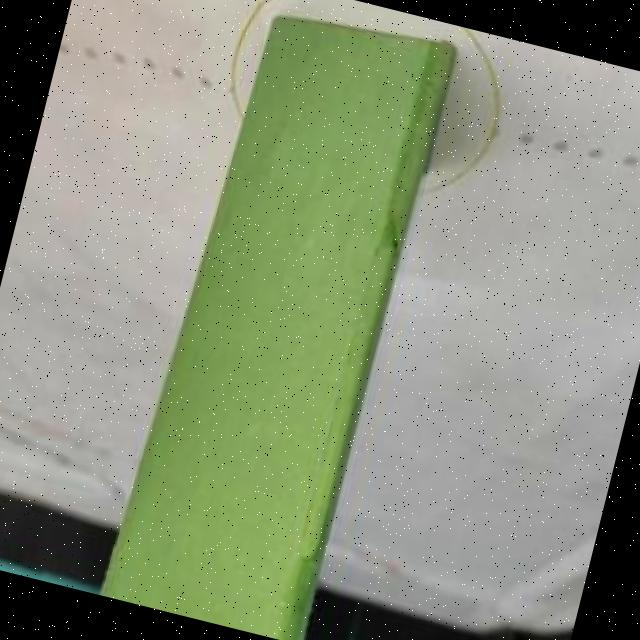greenbox: (96, 0, 454, 640)
